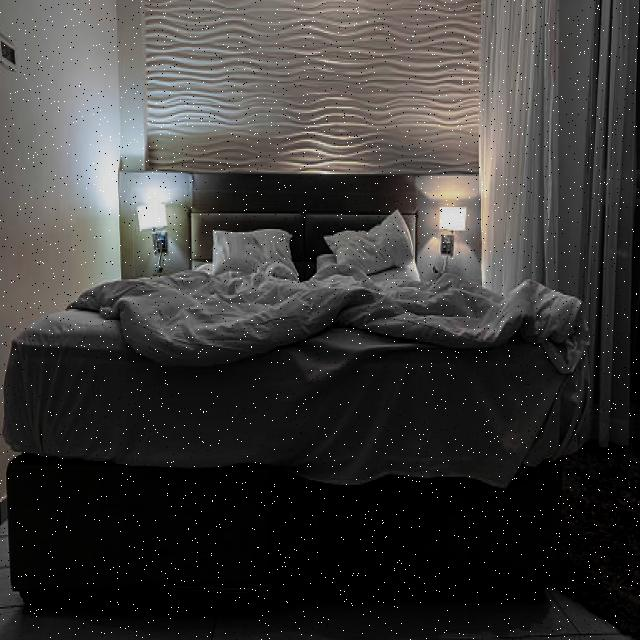bed: (33, 183, 555, 439)
